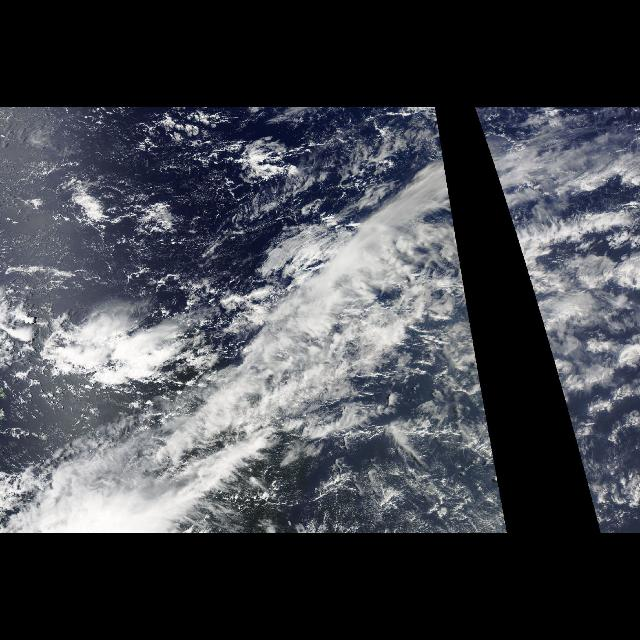Gravel: (51, 149, 393, 247)
Sugar: (8, 115, 326, 293)
